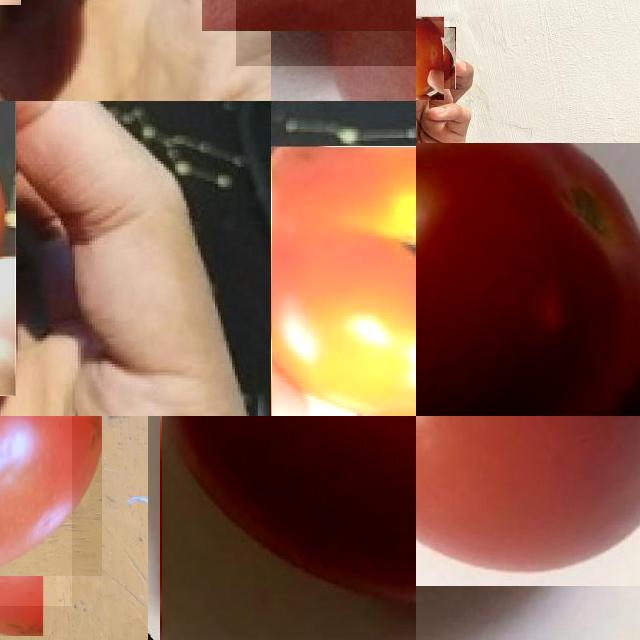0: (416, 416, 640, 585)
Fresh Tomato: (416, 143, 640, 416), (160, 416, 416, 640), (271, 146, 416, 416)
Rotten Tomato: (0, 416, 72, 606), (236, 0, 416, 66), (416, 21, 450, 94)
